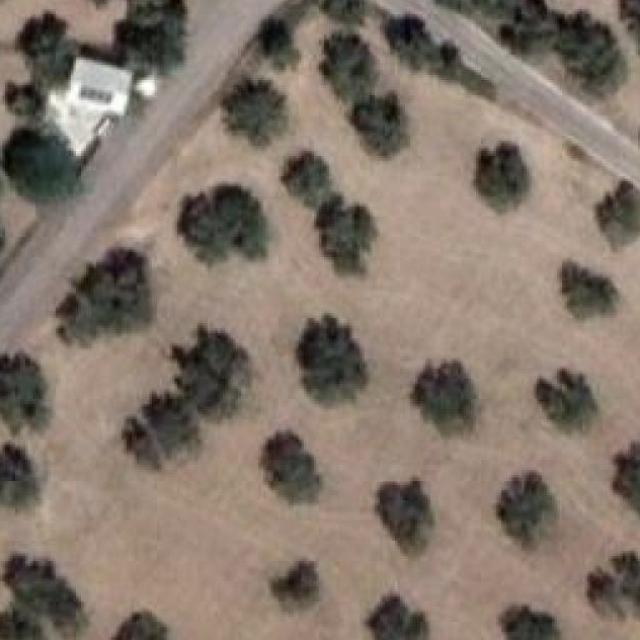Tree: (56, 250, 150, 344), (388, 19, 493, 97), (5, 12, 77, 117), (0, 553, 82, 640), (178, 187, 266, 264), (296, 316, 368, 404), (3, 120, 82, 200), (122, 394, 200, 470), (182, 326, 248, 407), (565, 12, 625, 96), (116, 0, 188, 68), (317, 194, 377, 274), (410, 362, 474, 436), (496, 474, 557, 550), (375, 478, 433, 556), (222, 78, 288, 146), (261, 433, 321, 504), (0, 354, 50, 434), (319, 32, 375, 102), (536, 368, 598, 431), (476, 144, 531, 212), (587, 551, 640, 620), (353, 93, 409, 157), (499, 0, 559, 59), (562, 260, 619, 318), (369, 591, 434, 640), (594, 181, 640, 250), (0, 442, 43, 512), (282, 151, 333, 208), (604, 434, 640, 510), (255, 12, 303, 65), (270, 561, 319, 612), (501, 601, 563, 640), (111, 611, 167, 640)
